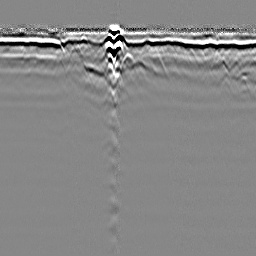cavity: (121, 49, 135, 67)
